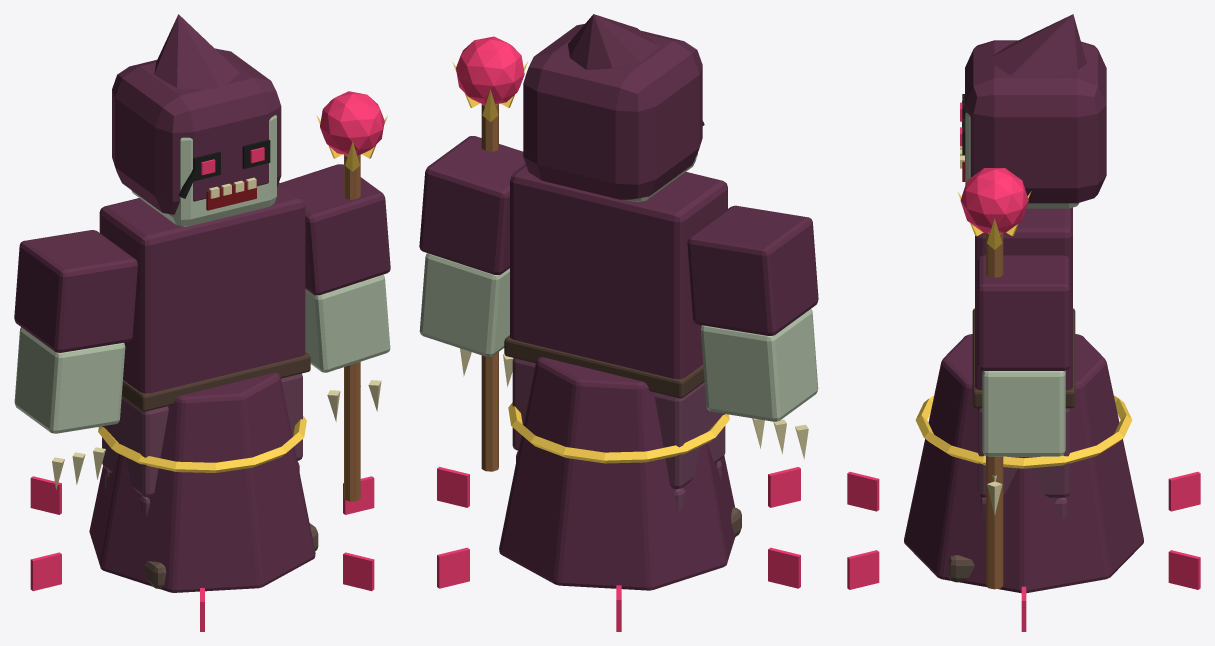
Rendered from zombi_invocador.fbx.
3 views of the same model, side by side, from view 1: azimuth 30°, elevation 25°; view 2: azimuth 150°, elevation 25°; view 3: azimuth 270°, elevation 25° (orthographic). The views are drawn at different scales.
Visible parts, largest first — view 1: Torso, Head, RightArm, LeftArm, Cube.017, Cube.020; view 2: Torso, Head, RightArm, LeftArm, Cube.017, Cube.020; view 3: Torso, RightArm, Head, Cube.020, Cube.022.
Part boxes in pixels (<box>): Torso: <box>30,182,374,631</box>; Head: <box>112,14,281,226</box>; RightArm: <box>280,91,390,501</box>; LeftArm: <box>14,230,137,489</box>; Cube.017: <box>102,396,168,497</box>; Cube.020: <box>281,373,302,460</box>; Torso: <box>437,164,800,631</box>; Head: <box>523,14,704,201</box>; RightArm: <box>419,36,527,471</box>; LeftArm: <box>687,205,818,459</box>; Cube.017: <box>654,382,725,488</box>; Cube.020: <box>512,358,535,450</box>; Torso: <box>847,207,1200,631</box>; RightArm: <box>958,168,1070,589</box>; Head: <box>960,14,1106,208</box>; Cube.020: <box>977,408,1070,497</box>; Cube.022: <box>948,555,974,582</box>.
Size of the model in its own units: 416 by 601 by 362.
3 materials, 1 textured.
